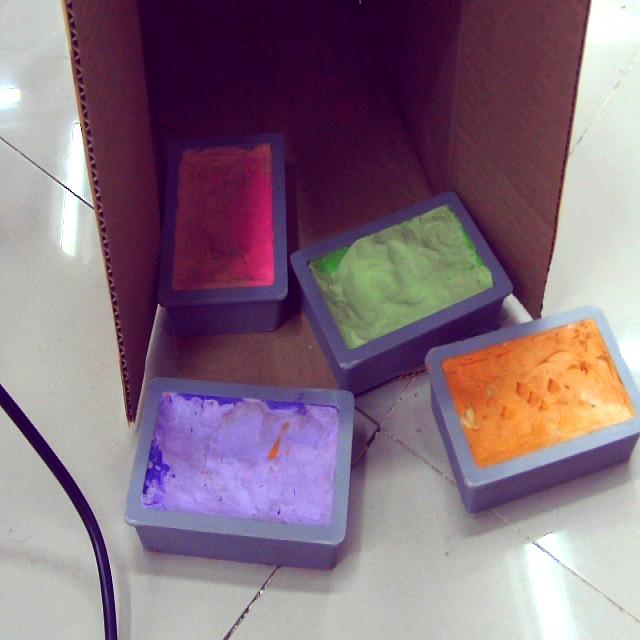block: (125, 377, 360, 571), (290, 193, 514, 396), (422, 304, 640, 512), (156, 130, 295, 338)
